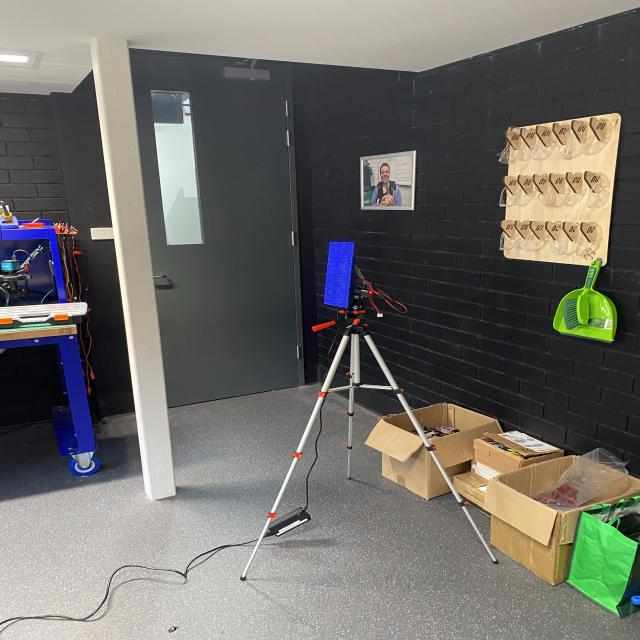matrix: (319, 235, 361, 317)
